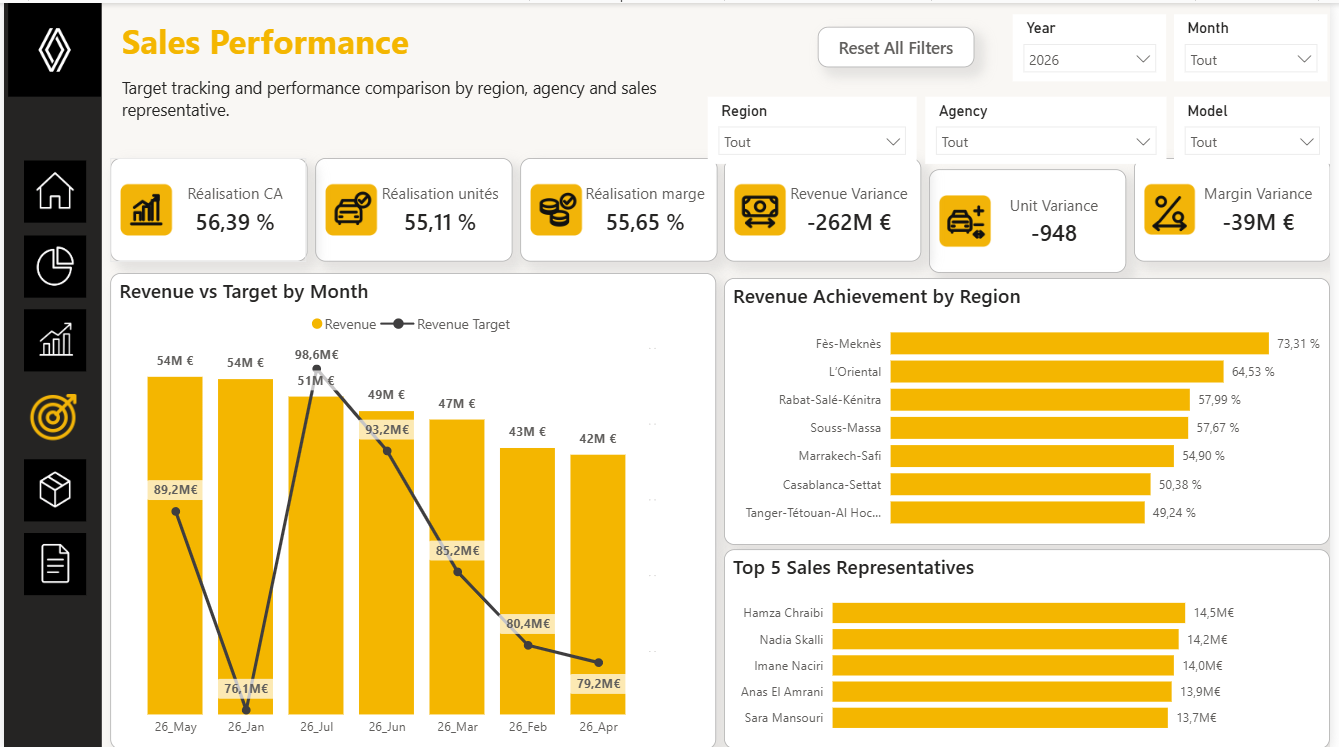

Layout of this report page (visuals, bound fields, positions):
{"tool":"powerbi","page":{"name":"Sales Performance","canvas":[1280,720],"ordinal":3},"visuals":[{"type":"shape","box":[0,0,94.5,720],"z":0},{"type":"image","box":[18.8,152.6,60,60],"z":0,"group":"g1"},{"type":"textbox","box":[108.6,9.7,296.8,55.5],"z":1000},{"type":"image","box":[18.8,224.6,60,60],"z":1000,"group":"g1"},{"type":"image","box":[0,0,97.5,90.2],"z":2000},{"type":"image","box":[18.8,296.5,60,60],"z":2000,"group":"g1"},{"type":"textbox","box":[108.6,65.1,530.8,57.9],"z":3000},{"type":"image","box":[18.8,368.5,60,60],"z":3000,"group":"g1"},{"type":"cardVisual","fields":{"Data":["Mes mesures.Écart unités"]},"box":[893.1,160.4,190,100],"z":4000},{"type":"image","box":[18.8,440.4,60,60],"z":4000,"group":"g1"},{"type":"cardVisual","fields":{"Data":["Mes mesures.Taux de réalisation unités"]},"box":[300,150.1,190,100],"z":5000},{"type":"image","box":[19.1,512.4,59.8,59.8],"z":5000,"group":"g1"},{"type":"cardVisual","fields":{"Data":["Mes mesures.Taux de réalisation marge"]},"box":[497.7,150.1,190,100],"z":6000},{"type":"cardVisual","fields":{"Data":["Mes mesures.Écart CA"]},"box":[695.4,150.1,190,100],"z":7000},{"type":"cardVisual","fields":{"Data":["Mes mesures.Taux de réalisation CA"]},"box":[102.3,150.1,190,100],"z":8000},{"type":"cardVisual","fields":{"Data":["Mes mesures.Écart marge"]},"box":[1090.6,150.1,189.4,100.1],"z":9000},{"type":"lineStackedColumnComboChart","title":"Revenue vs Target by Month","fields":{"Category":["Dim_Mois.MonthAdjusted"],"Y":["Mes mesures.Chiffre d'affaires"],"Y2":["Mes mesures.Objectif CA"]},"box":[102.5,260,585,460],"z":10000},{"type":"barChart","title":"Revenue Achievement by Region","fields":{"Category":["Dim_Agence.Region Hiérarchie.Region","Dim_Agence.Region Hiérarchie.City","Dim_Agence.Region Hiérarchie.Agency_Name"],"Y":["Mes mesures.Taux de réalisation CA"]},"box":[695,265.2,585,257.5],"z":11000},{"type":"barChart","title":"Top 5 Sales Representatives","fields":{"Category":["Dim_Vendeur.Seller_Name"],"Y":["Mes mesures.Chiffre d'affaires"]},"box":[695,527.5,585,192.5],"z":12000},{"type":"slicer","fields":{"Values":["Dim_Mois.Year"]},"box":[973,10.7,148.4,65.1],"z":13000},{"type":"slicer","fields":{"Values":["Dim_Mois.Month"]},"box":[1128.7,10.7,148.4,65.1],"z":14000},{"type":"slicer","fields":{"Values":["Dim_Agence.Region"]},"box":[679.2,90.5,201.5,65.1],"z":15000},{"type":"slicer","fields":{"Values":["Dim_Agence.Agency_Name"]},"box":[888.5,90.5,232.8,65.1],"z":16000},{"type":"slicer","fields":{"Values":["Dim_Vehicule.Model"]},"box":[1129.2,90.5,150.8,65.1],"z":17000},{"type":"actionButton","box":[785.7,22.9,151.3,39.4],"z":18000},{"type":"group","id":"g1","title":"Groupe 1","box":[18.8,152.6,60,419.5],"z":18001}]}

Visuals, with their boxes in screenshot pixels (x1, y1, x2, y2), scaled from the page's 1280x720 canvas onto the 1339x747 screenshot:
shape: pyautogui.locateOnScreen(0, 0, 99, 746)
image: pyautogui.locateOnScreen(20, 158, 82, 221)
textbox: pyautogui.locateOnScreen(114, 10, 424, 68)
image: pyautogui.locateOnScreen(20, 233, 82, 295)
image: pyautogui.locateOnScreen(0, 0, 102, 94)
image: pyautogui.locateOnScreen(20, 308, 82, 370)
textbox: pyautogui.locateOnScreen(114, 68, 669, 128)
image: pyautogui.locateOnScreen(20, 382, 82, 445)
cardVisual - Mes mesures.Écart unités: pyautogui.locateOnScreen(934, 166, 1133, 270)
image: pyautogui.locateOnScreen(20, 457, 82, 519)
cardVisual - Mes mesures.Taux de réalisation unités: pyautogui.locateOnScreen(314, 156, 513, 259)
image: pyautogui.locateOnScreen(20, 532, 83, 594)
cardVisual - Mes mesures.Taux de réalisation marge: pyautogui.locateOnScreen(521, 156, 719, 259)
cardVisual - Mes mesures.Écart CA: pyautogui.locateOnScreen(727, 156, 926, 259)
cardVisual - Mes mesures.Taux de réalisation CA: pyautogui.locateOnScreen(107, 156, 306, 259)
cardVisual - Mes mesures.Écart marge: pyautogui.locateOnScreen(1141, 156, 1338, 260)
"Revenue vs Target by Month" lineStackedColumnComboChart: pyautogui.locateOnScreen(107, 270, 719, 746)
"Revenue Achievement by Region" barChart: pyautogui.locateOnScreen(727, 275, 1338, 542)
"Top 5 Sales Representatives" barChart: pyautogui.locateOnScreen(727, 547, 1338, 746)
slicer - Dim_Mois.Year: pyautogui.locateOnScreen(1018, 11, 1173, 79)
slicer - Dim_Mois.Month: pyautogui.locateOnScreen(1181, 11, 1336, 79)
slicer - Dim_Agence.Region: pyautogui.locateOnScreen(711, 94, 921, 161)
slicer - Dim_Agence.Agency_Name: pyautogui.locateOnScreen(929, 94, 1173, 161)
slicer - Dim_Vehicule.Model: pyautogui.locateOnScreen(1181, 94, 1338, 161)
actionButton: pyautogui.locateOnScreen(822, 24, 980, 65)
"Groupe 1" group: pyautogui.locateOnScreen(20, 158, 82, 594)
